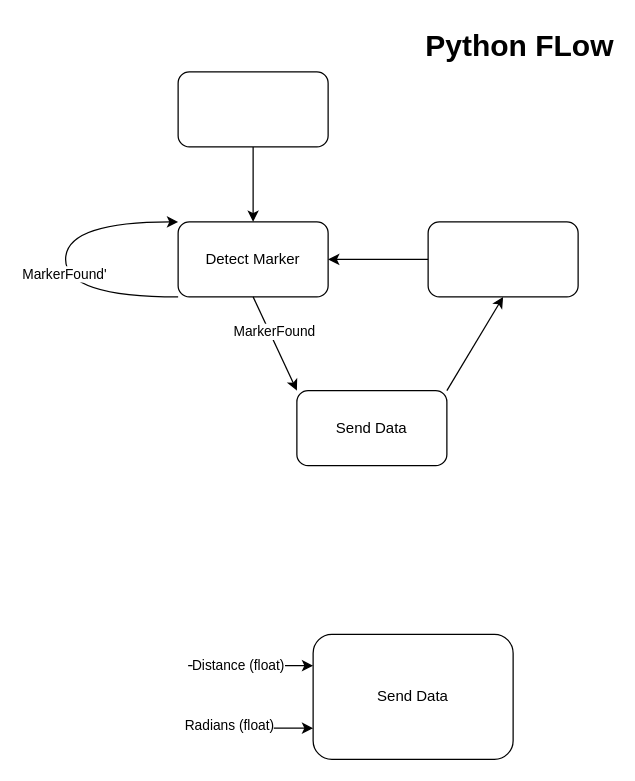
The diagram is 635 pixels wide and 781 high, and some of its shapes have lost their labels. The shapes that lost their labels are listed below. From the top down, each one's centre as x and y in pixels, then its label:
At point (252, 109): "Start".
At point (502, 259): "Wait For Move Done".
